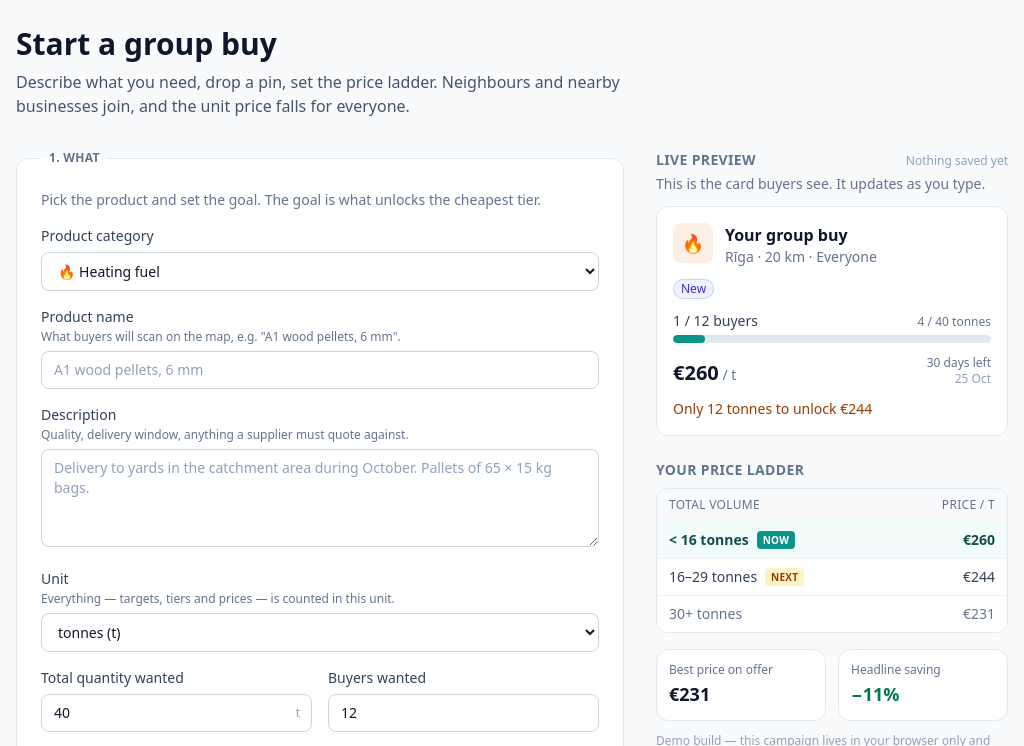
CreateCampaignPage review › reaches the success screen with both links
Type "Wood pellets A1" into the field labelled "Product name".
click(320, 370); type("Wood pellets A1")  # box [41, 351, 599, 389]
(page scrolled)
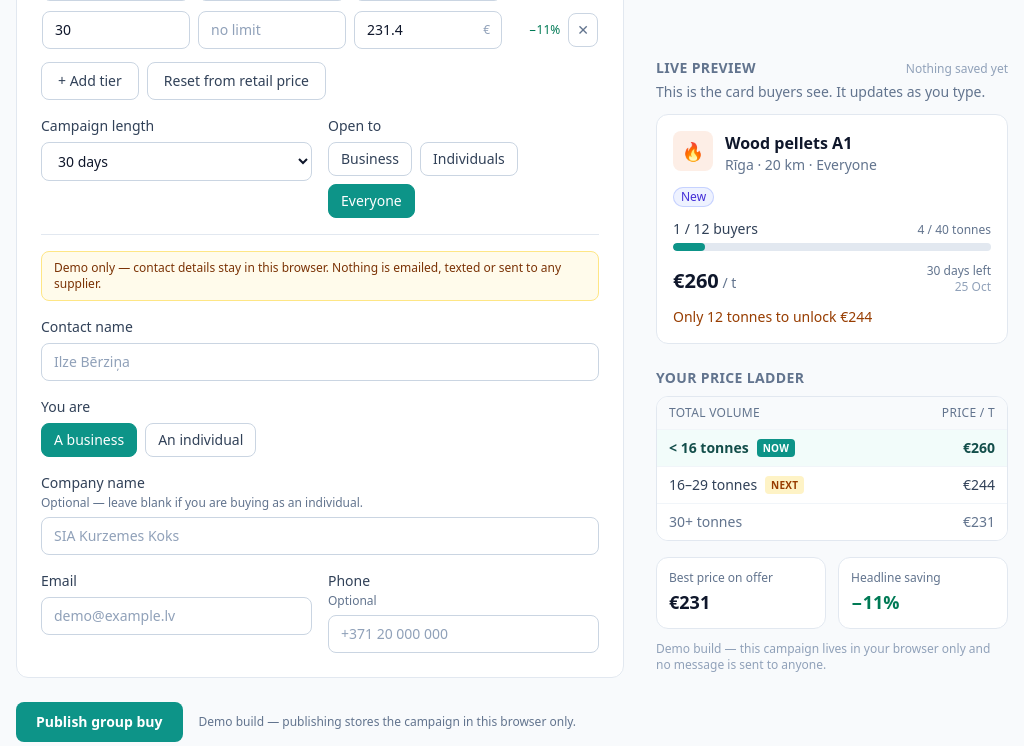
Type "Ilze" into the field labelled "Contact name".
click(320, 362); type("Ilze")  # box [41, 343, 599, 381]
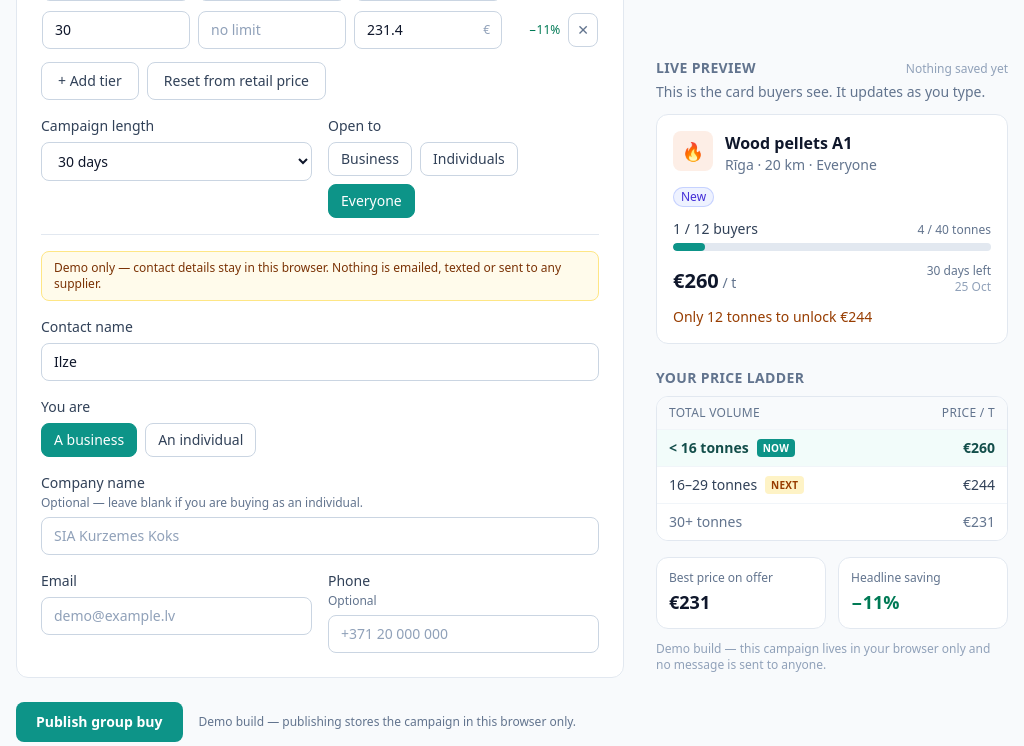
Type "a@b.lv" into the field labelled "Email".
click(176, 616); type("a@b.lv")  # box [41, 597, 312, 635]
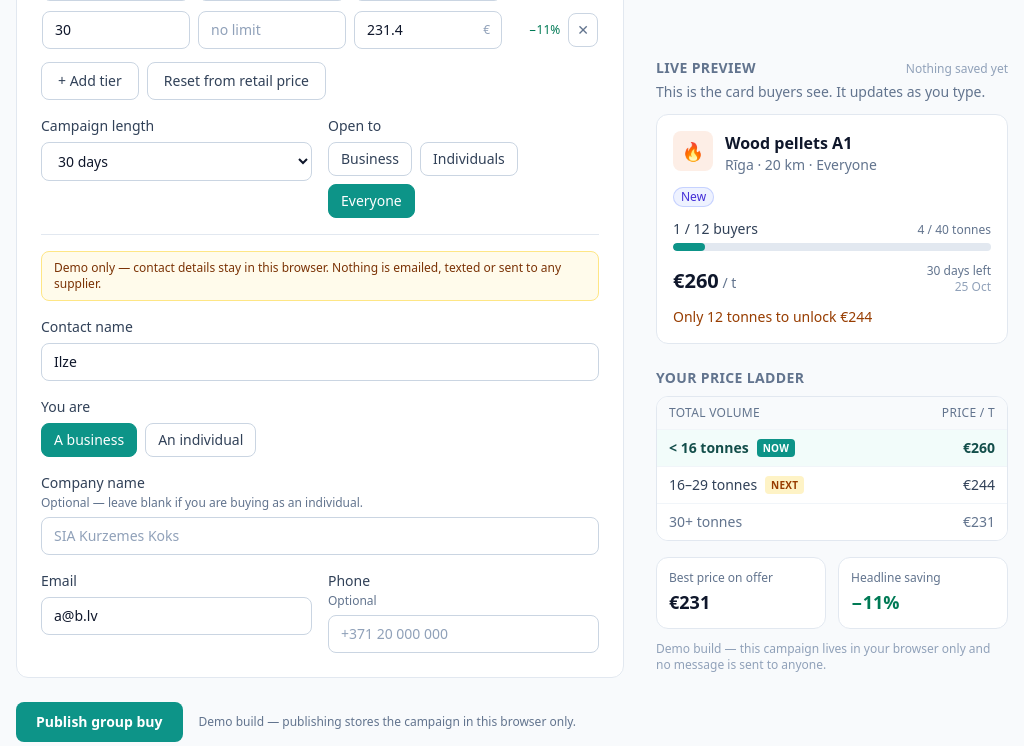
Click the button "Publish group buy".
click(99, 722)  # box [16, 702, 182, 742]
(page scrolled)
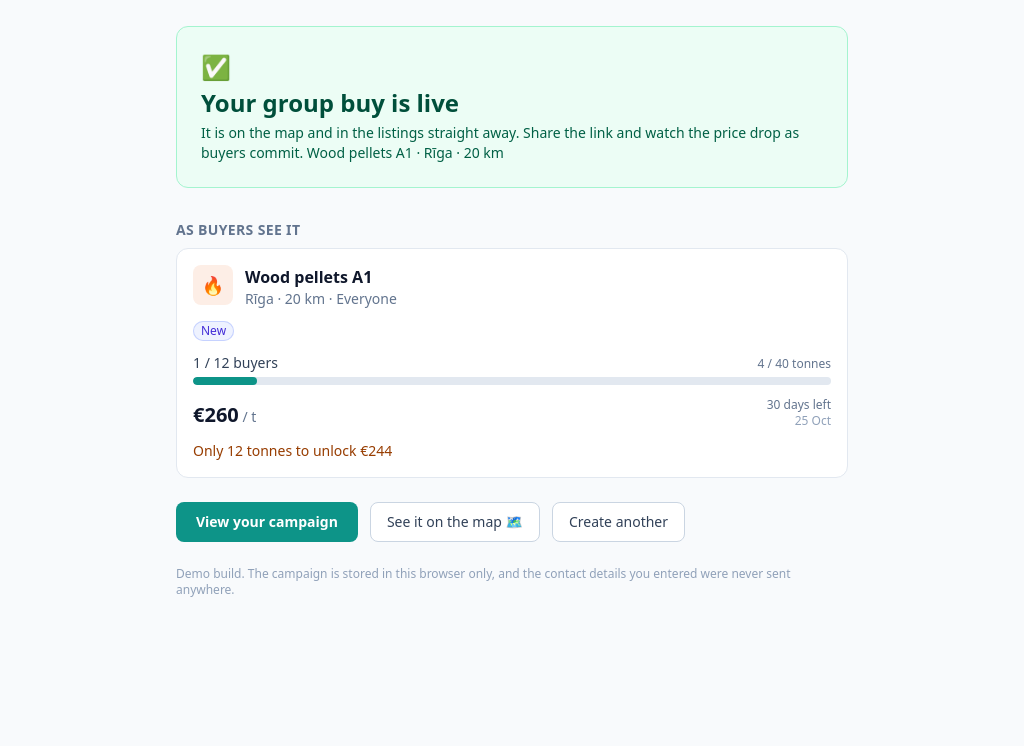
Now the heading "Your group buy is live" is shown, box [201, 86, 459, 119]
